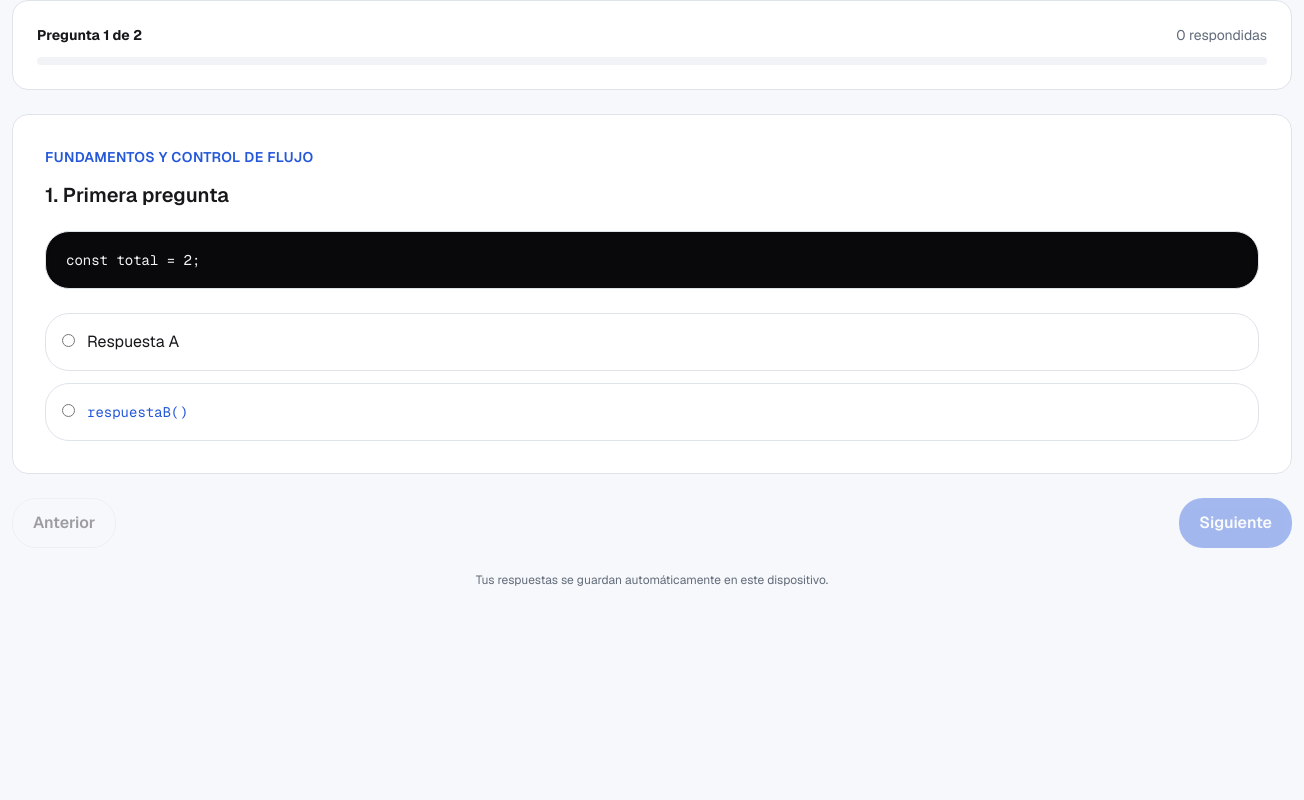
Test: JavascriptAssessmentForm › muestra una pregunta por vez, revisa y presenta retroalimentación
Expected: the heading "1. Primera pregunta" is shown, 45,182 -> 229,208
Expected: the element named "Código de la pregunta 1" reads "const total = 2;", 66,251 -> 200,269
Click the radio button labelled "Respuesta A" at (68, 340), box 62,334 -> 75,347
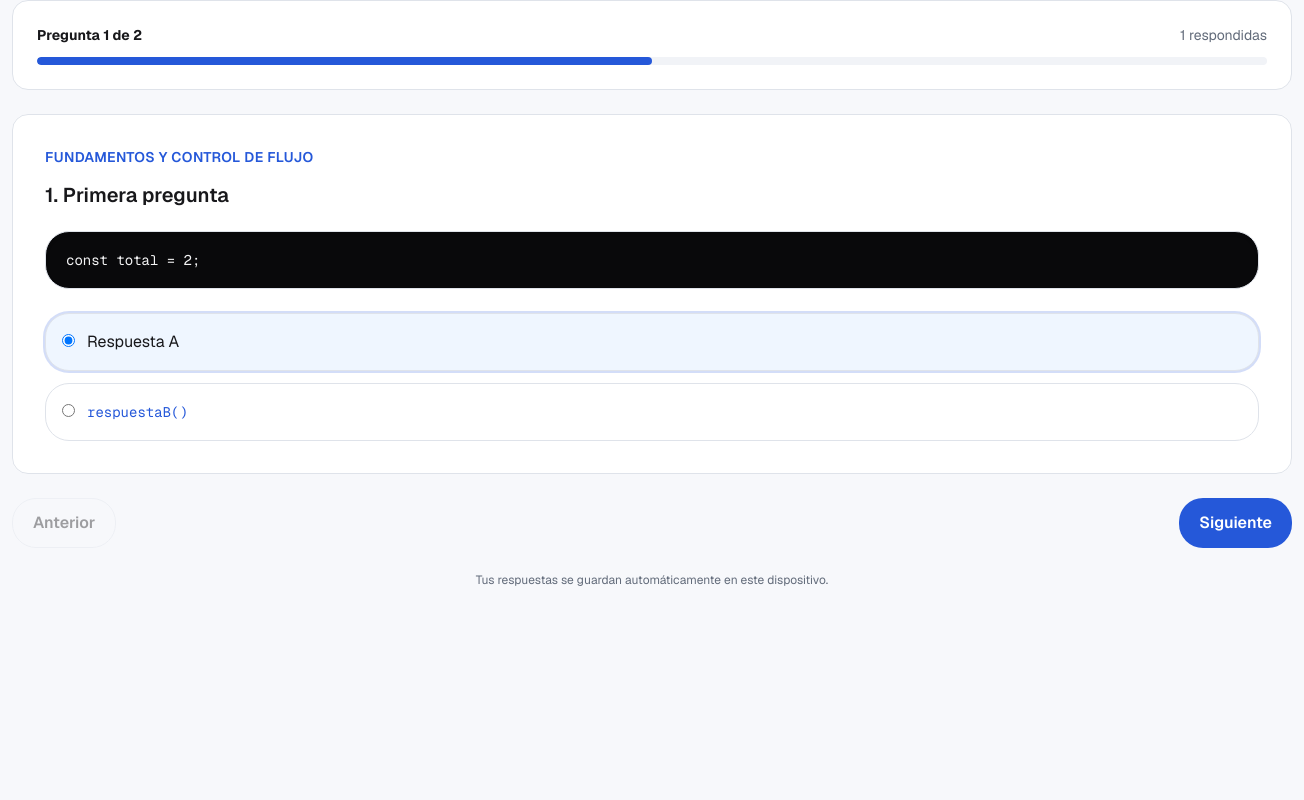
Click the button "Siguiente" at (1236, 523), box 1179,498 -> 1292,548
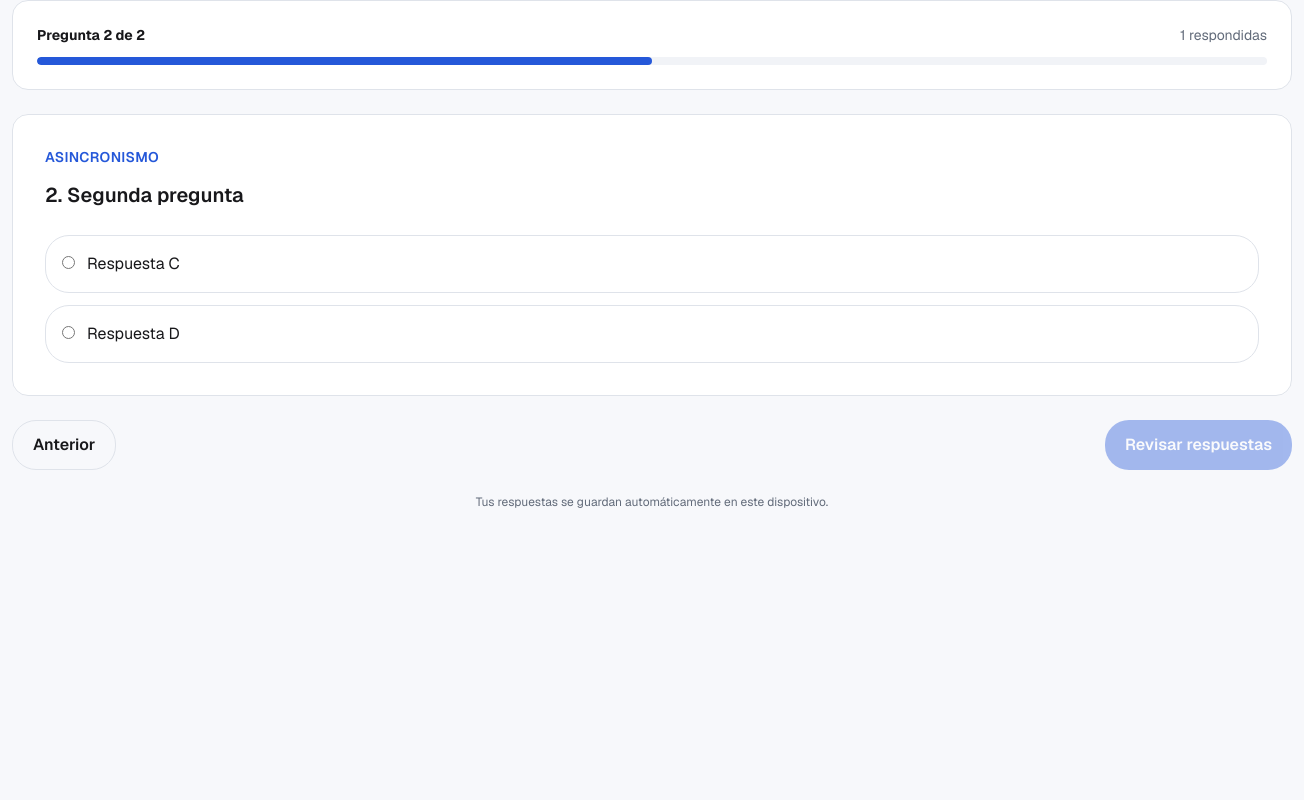
Expected: the text "1 respondidas" is shown, 1180,25 -> 1267,45
Expected: the heading "2. Segunda pregunta" is shown, 45,182 -> 244,208
Click the radio button labelled "Respuesta C" at (68, 262), box 62,256 -> 75,269
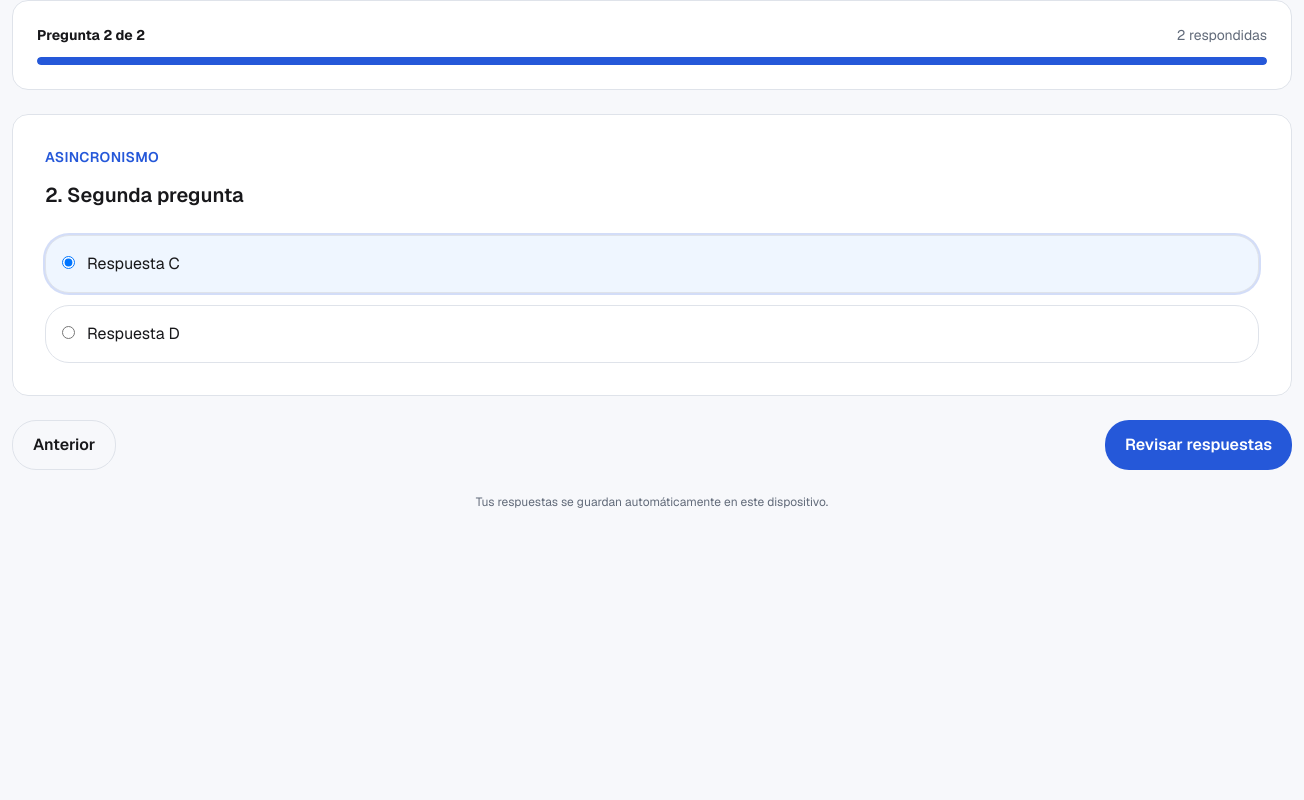
Click the button "Revisar respuestas" at (1198, 445), box 1105,420 -> 1292,470
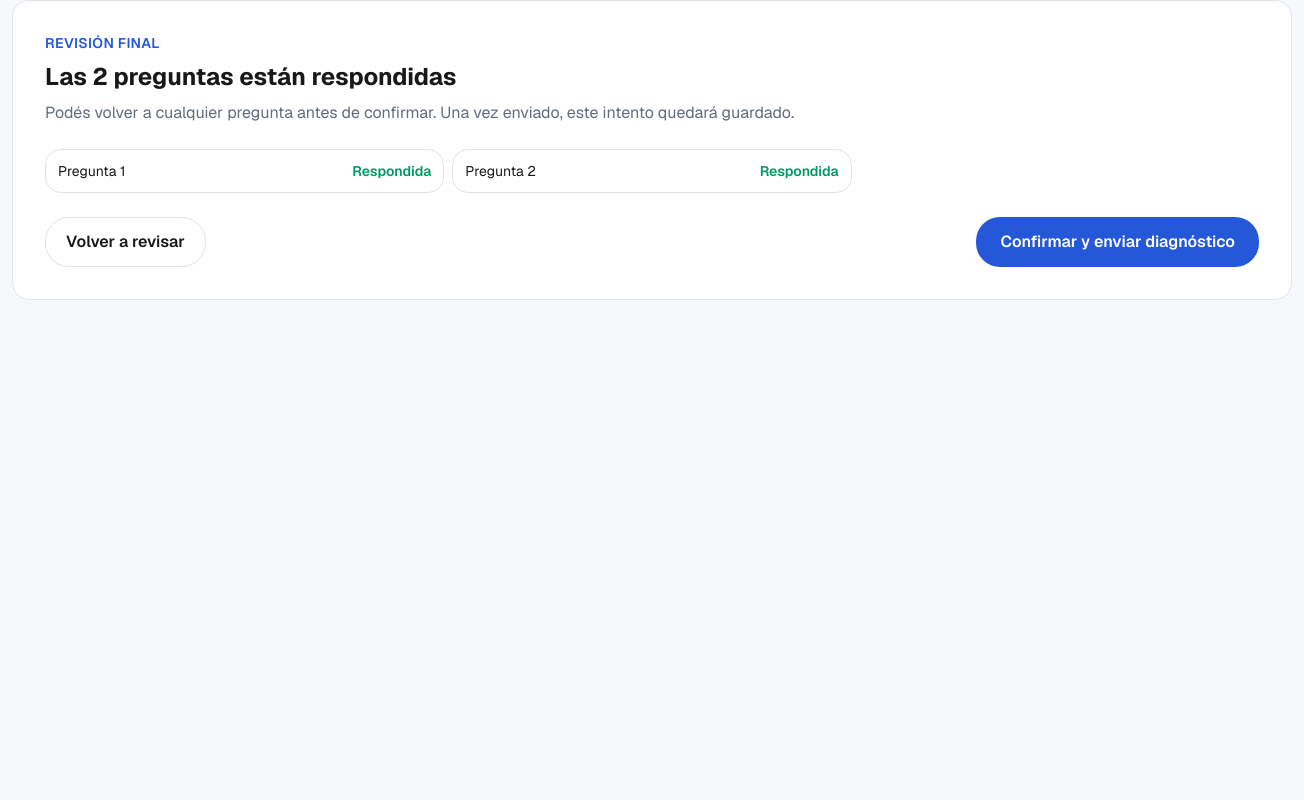
Expected: the heading "Las 2 preguntas están respondidas" is shown, 45,61 -> 456,92
Click the button "Confirmar y enviar diagnóstico" at (1118, 242), box 976,217 -> 1259,267
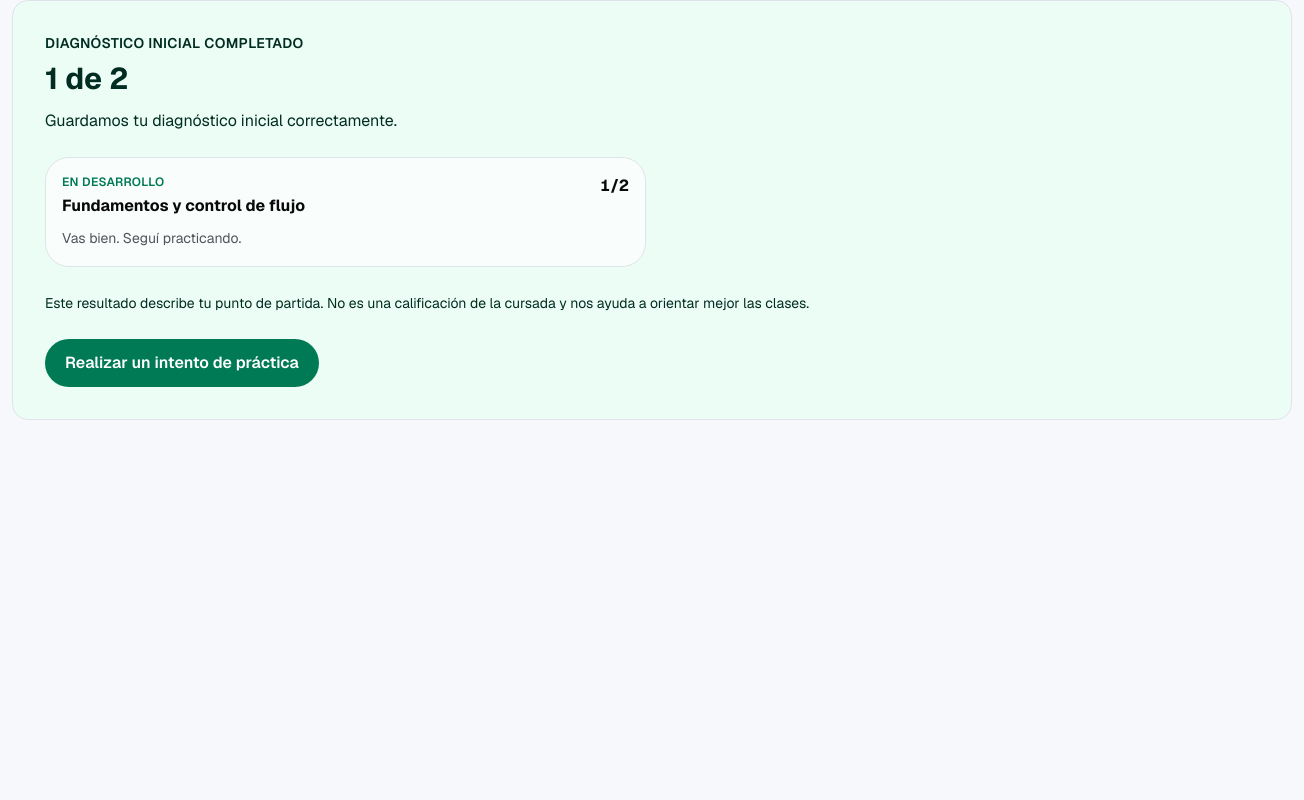
Expected: the heading "1 de 2" is shown, 45,59 -> 129,98
Expected: the text "Diagnóstico inicial completado" is shown, 45,34 -> 304,52
Expected: the text "En desarrollo" is shown, 62,174 -> 164,190
